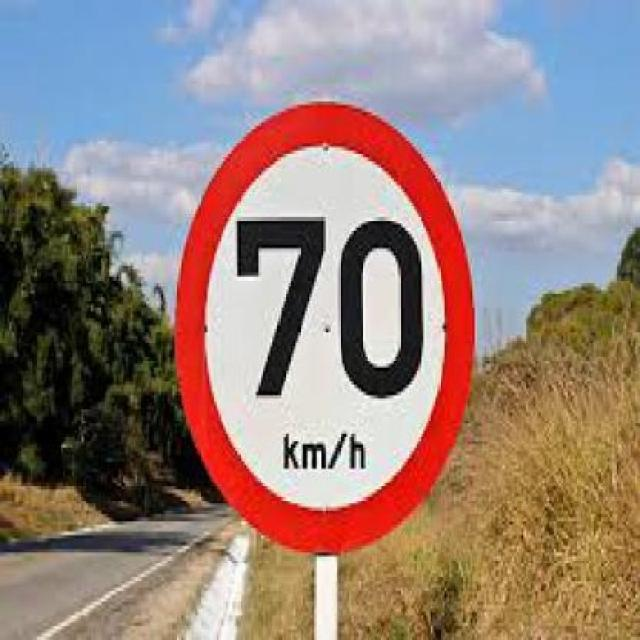forb_speed_over_70: (182, 109, 468, 540)
